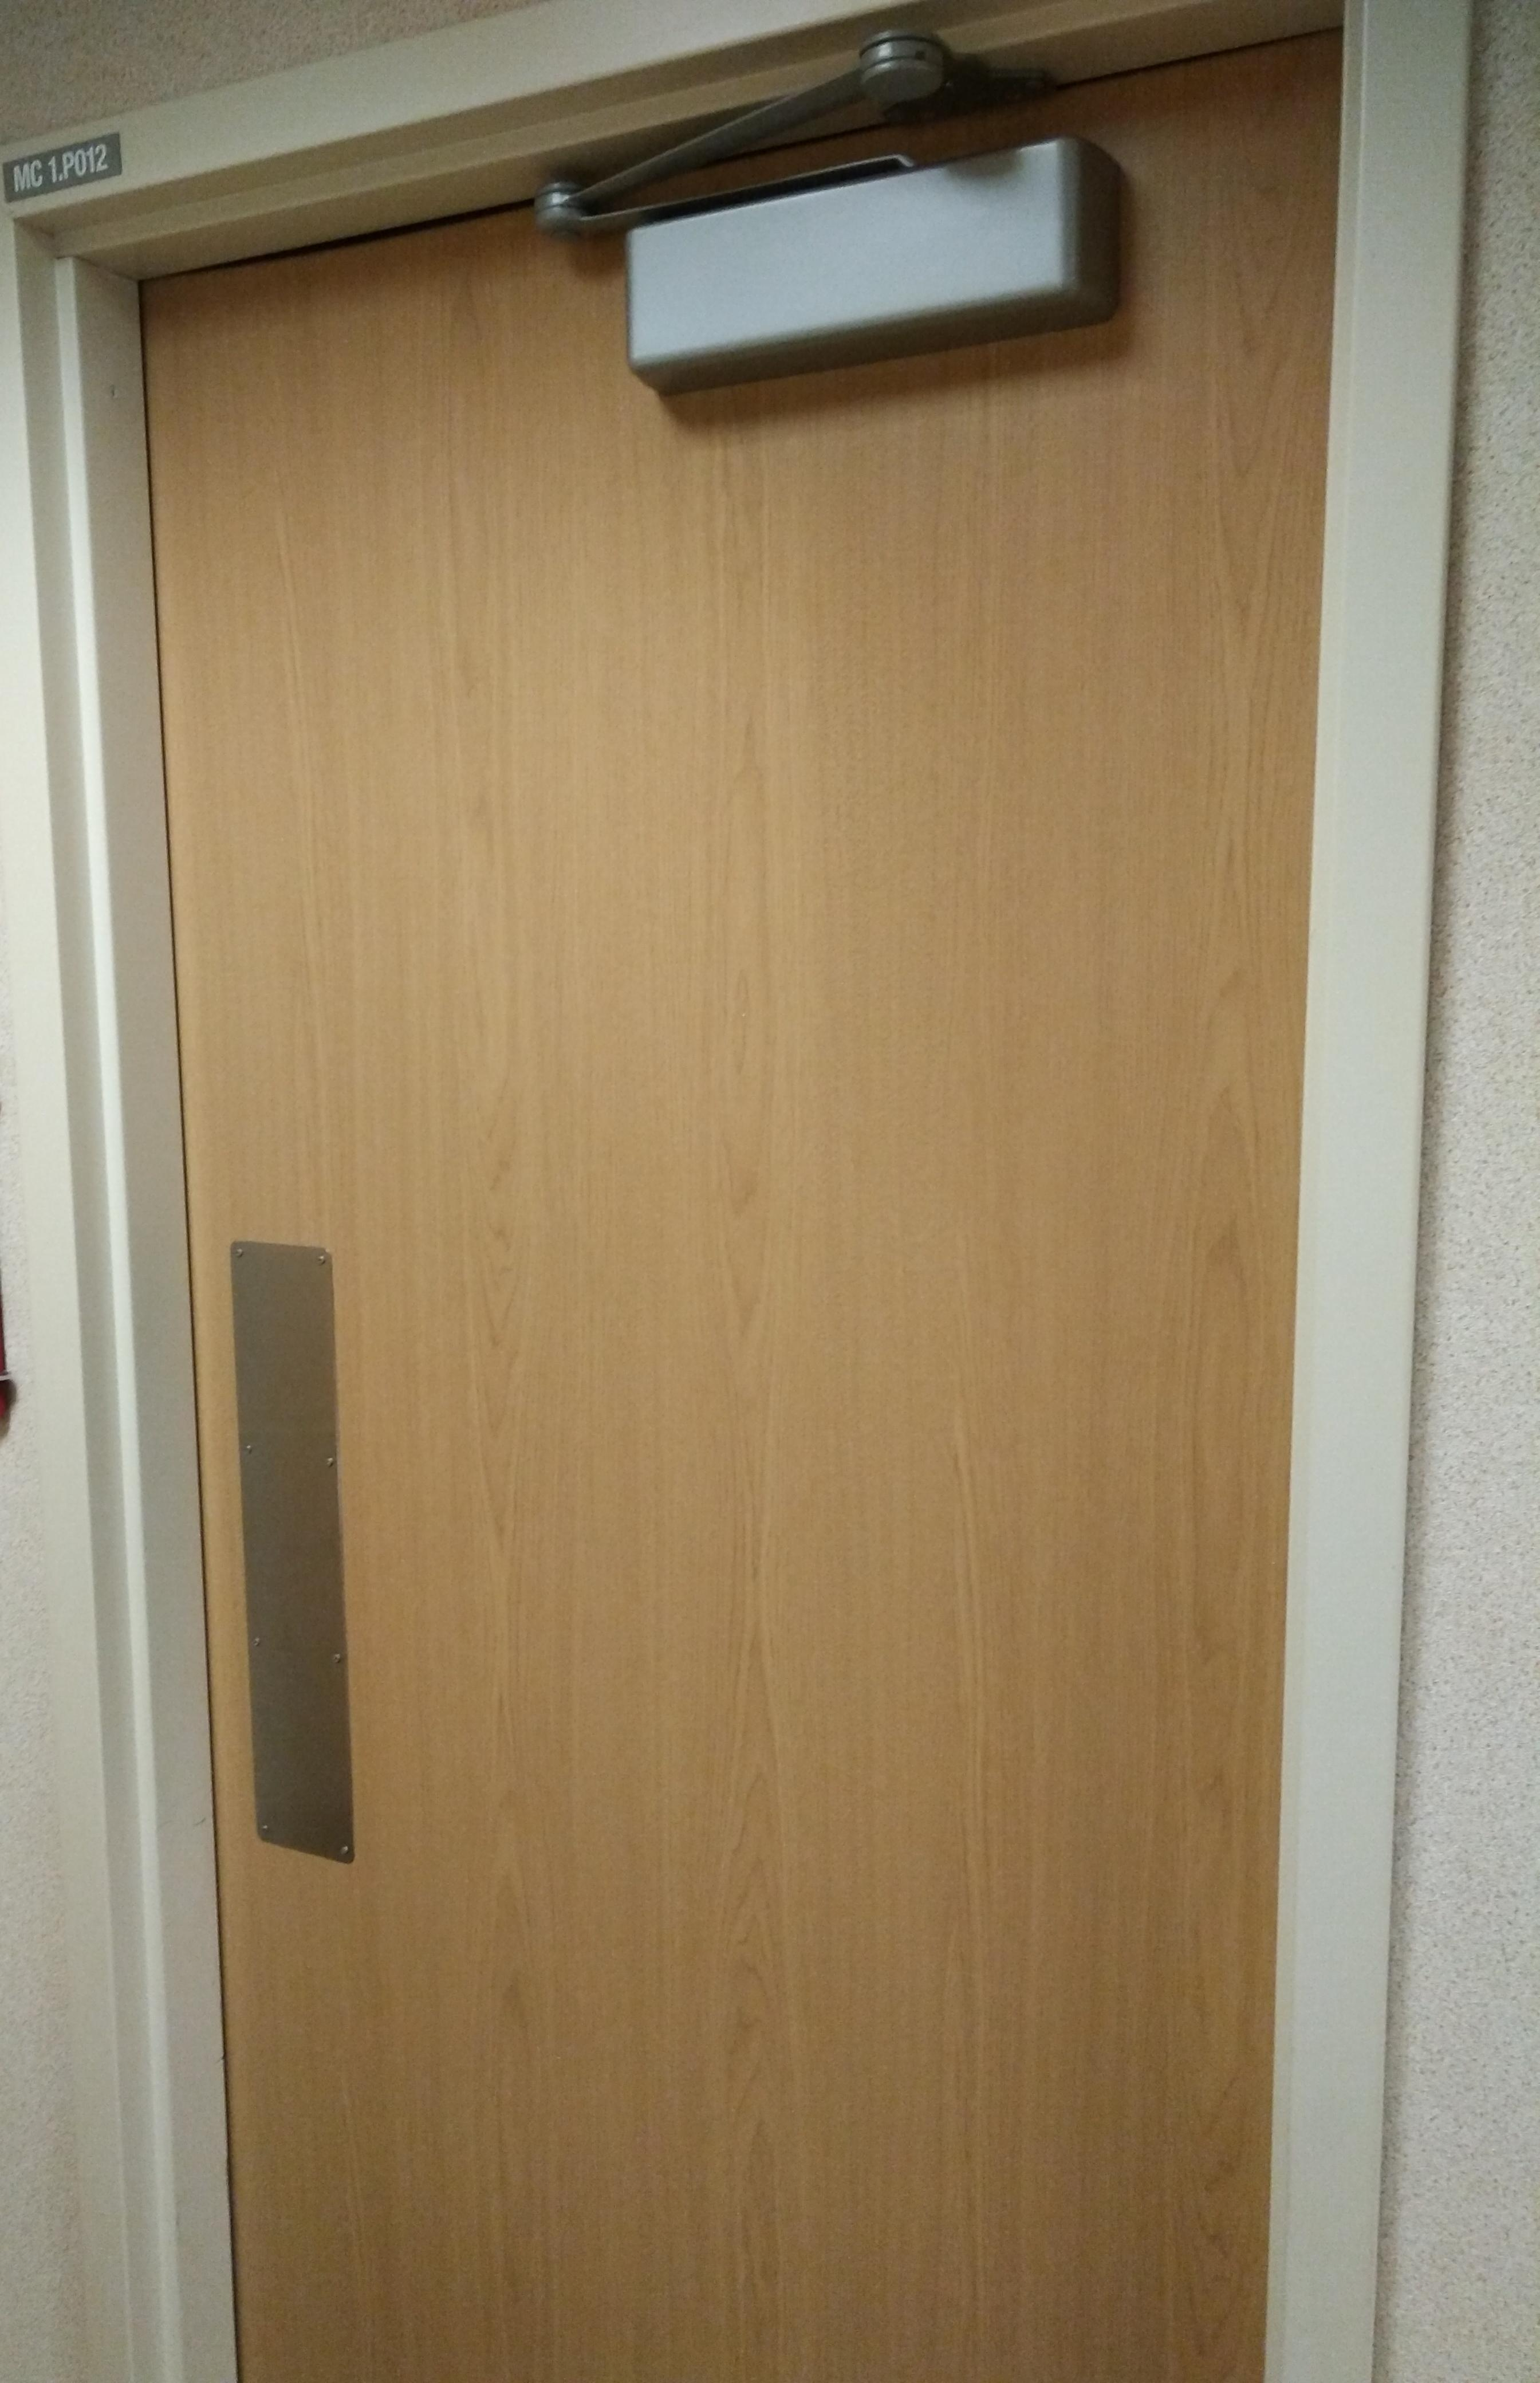door: (43, 158, 1295, 2383)
